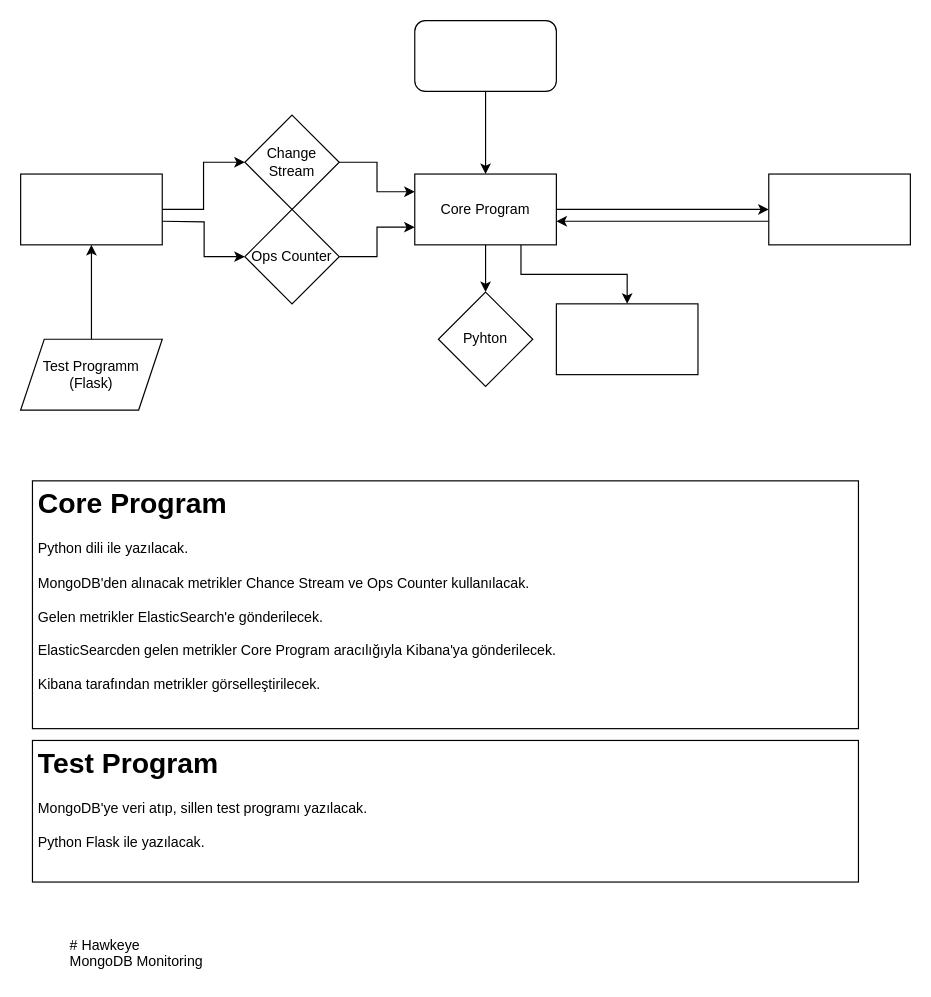
Some shapes in this 931 by 997 pixel diagram are drawn without their labels. Each missing label, with the centre of its shape:
"ElasticSearch" belongs at (839,209).
"Hawkeye" belongs at (485,55).
"Kibana ile Görselleştirme" belongs at (626,339).
"MongoDB" belongs at (90,209).
